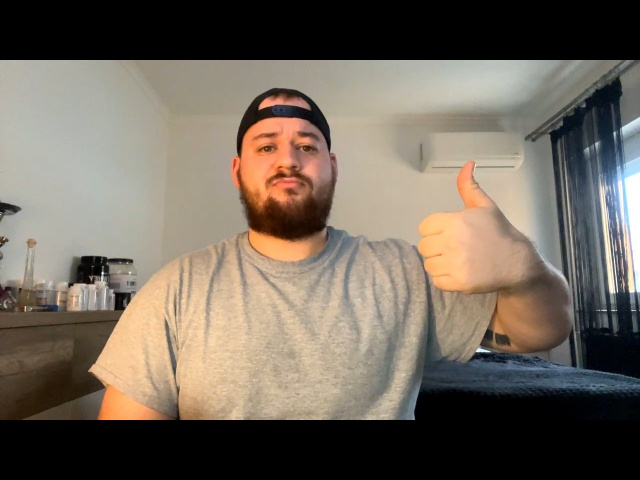ThumbsUp: (417, 160, 543, 294)
